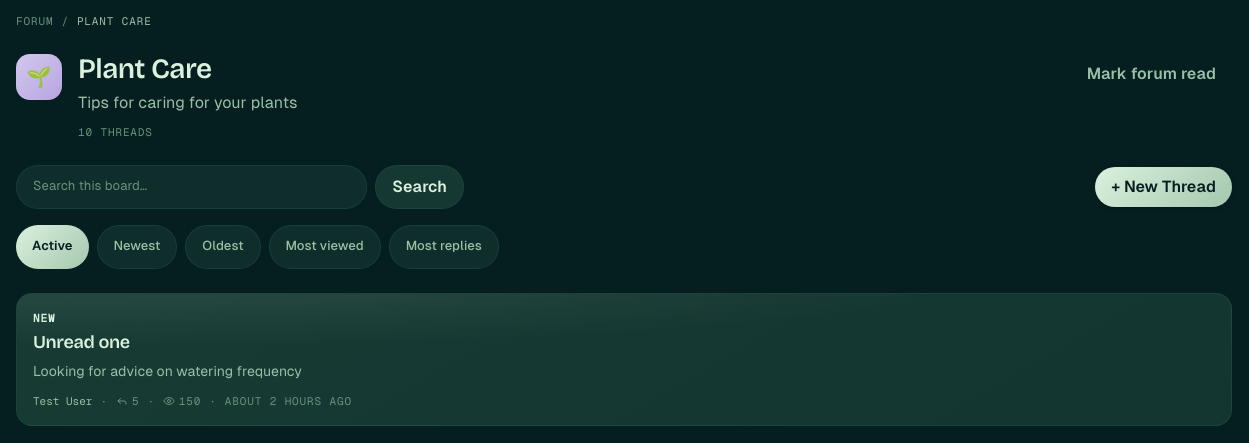
ThreadListPage › Mark forum read (todo 671) › marks the forum read and clears the unread threads
Click the button "Mark forum read" at (1151, 74), box [1071, 54, 1232, 94]
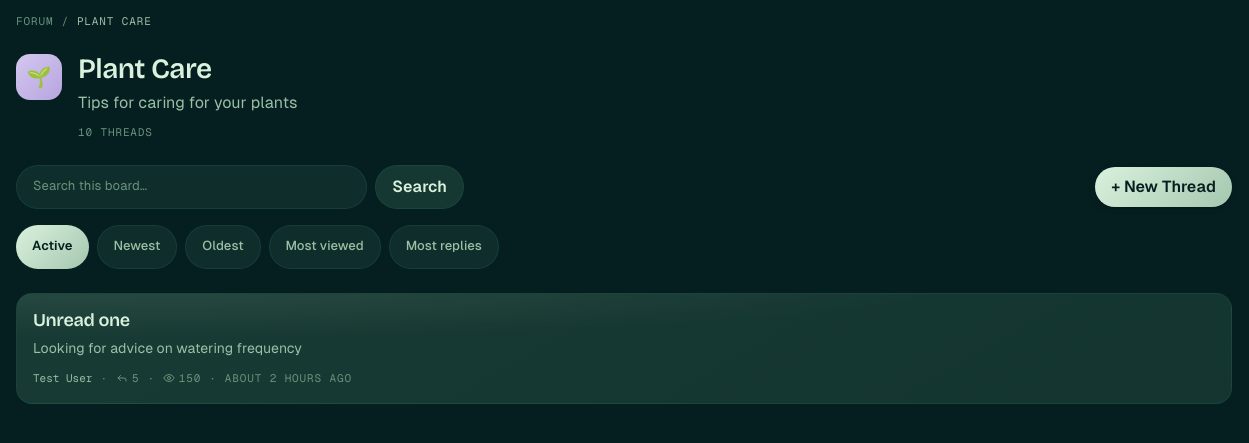
expect the button "Mark forum read" is gone: met
